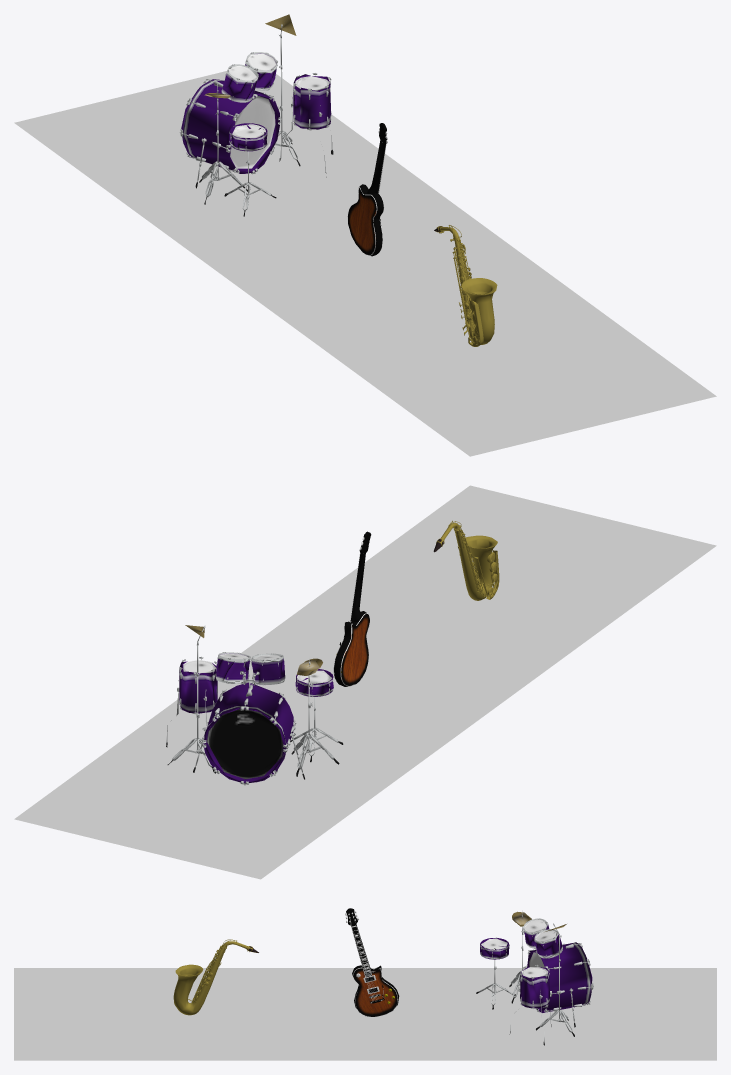
File: audio-low.glb
The picture shows the model from 3 angles, top to bottom: view 1: azimuth 30°, elevation 25°; view 2: azimuth 150°, elevation 25°; view 3: azimuth 270°, elevation 25°; orthographic projection. The views are drawn at different scales.
Visible parts, largest first — view 1: Backdrop, Drum_Big_High_poly_pasted__lambert12_0.001, pCube64, Drum_High_poly, Object_2, Drum_Big_High_poly_pasted__lambert12_0.002, Object_3, Drum_snall_High_poly_pasted__lambert12_0.001, Tails_2_High_poly, Tails_High_poly; view 2: Backdrop, Drum_Big_High_poly_pasted__lambert12_0.001, pCube64, Drum_High_poly, Object_2, Drum_Big_High_poly_pasted__lambert12_0.002, Tails_High_poly, Drum_snall_High_poly_pasted__lambert12_0.001, Tails_2_High_poly; view 3: Backdrop, Drum_Big_High_poly_pasted__lambert12_0.001, pCube64, Object_2, Drum_High_poly, Drum_Big_High_poly_pasted__lambert12_0.002, Drum_snall_High_poly_pasted__lambert12_0.001, Drum_snall_High_poly, Tails_High_poly, Tails_2_High_poly, Drum_Big_High_poly, Object_3.
Part boxes in pixels (box(x1,y1,x2,y2)): Backdrop: box(14, 71, 716, 456); Drum_Big_High_poly_pasted__lambert12_0.001: box(181, 59, 279, 188); pCube64: box(347, 123, 387, 256); Drum_High_poly: box(279, 73, 333, 177); Object_2: box(440, 227, 497, 344); Drum_Big_High_poly_pasted__lambert12_0.002: box(179, 52, 277, 174); Object_3: box(448, 225, 473, 339); Drum_snall_High_poly_pasted__lambert12_0.001: box(229, 123, 276, 210); Tails_2_High_poly: box(265, 14, 300, 166); Tails_High_poly: box(199, 83, 247, 204); Backdrop: box(14, 485, 716, 879); Drum_Big_High_poly_pasted__lambert12_0.001: box(203, 653, 304, 783); pCube64: box(333, 531, 371, 686); Drum_High_poly: box(166, 656, 217, 747); Object_2: box(441, 522, 497, 600); Drum_Big_High_poly_pasted__lambert12_0.002: box(216, 652, 299, 785); Tails_High_poly: box(291, 656, 339, 776); Drum_snall_High_poly_pasted__lambert12_0.001: box(290, 669, 338, 743); Tails_2_High_poly: box(167, 625, 215, 773); Backdrop: box(14, 968, 716, 1060); Drum_Big_High_poly_pasted__lambert12_0.001: box(523, 918, 592, 1012); pCube64: box(345, 908, 399, 1016); Object_2: box(173, 941, 247, 1015); Drum_High_poly: box(509, 966, 551, 1045); Drum_Big_High_poly_pasted__lambert12_0.002: box(523, 921, 582, 1012); Drum_snall_High_poly_pasted__lambert12_0.001: box(480, 938, 509, 1009); Drum_snall_High_poly: box(476, 937, 515, 1004); Tails_High_poly: box(509, 910, 531, 1003); Tails_2_High_poly: box(536, 923, 574, 1036); Drum_Big_High_poly: box(527, 921, 593, 1027); Object_3: box(192, 941, 236, 1002).
Size of the model in its own units: 4.61 by 2.53 by 14.76.
18 materials, 3 textured.
